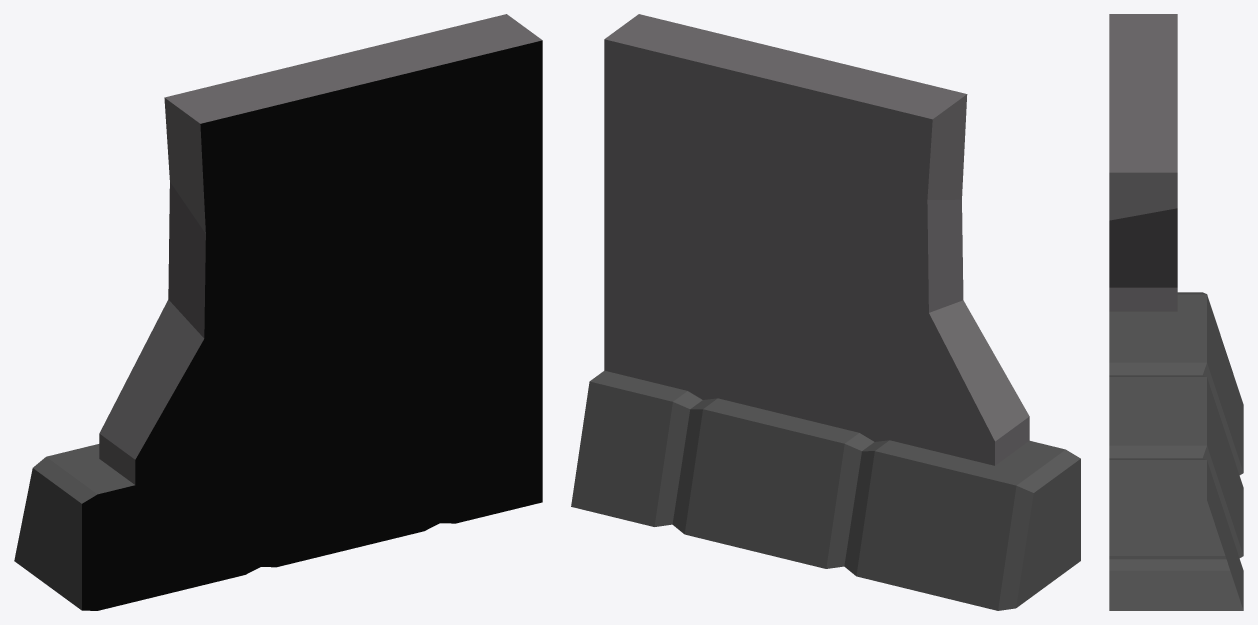
File: Wall_Broken_Base.fbx
3 views of the same model, side by side, from view 1: azimuth 30°, elevation 25°; view 2: azimuth 150°, elevation 25°; view 3: azimuth 270°, elevation 25° (orthographic). The views are drawn at different scales.
Parts seen in each view (by area): view 1: Wall_Broken_Base; view 2: Wall_Broken_Base; view 3: Wall_Broken_Base.
Boxes of the visible parts, box(x1,y1,x2,y2) form: Wall_Broken_Base: box(14, 14, 542, 610); Wall_Broken_Base: box(571, 14, 1080, 610); Wall_Broken_Base: box(1109, 14, 1243, 610).
Bounding box in the file's own units: 124 × 119 × 33.
